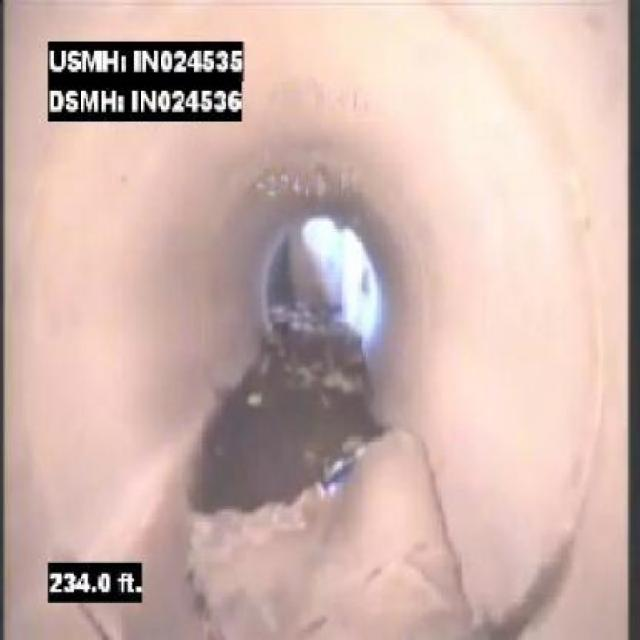Obstacle: (168, 392, 500, 637)
